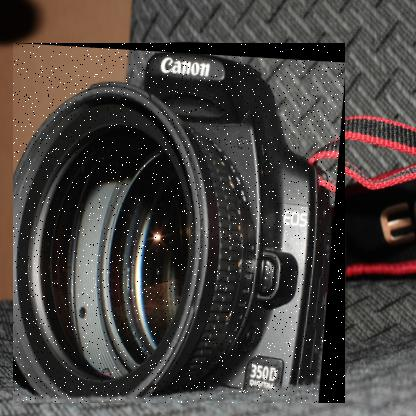Camera: (14, 44, 347, 405)
